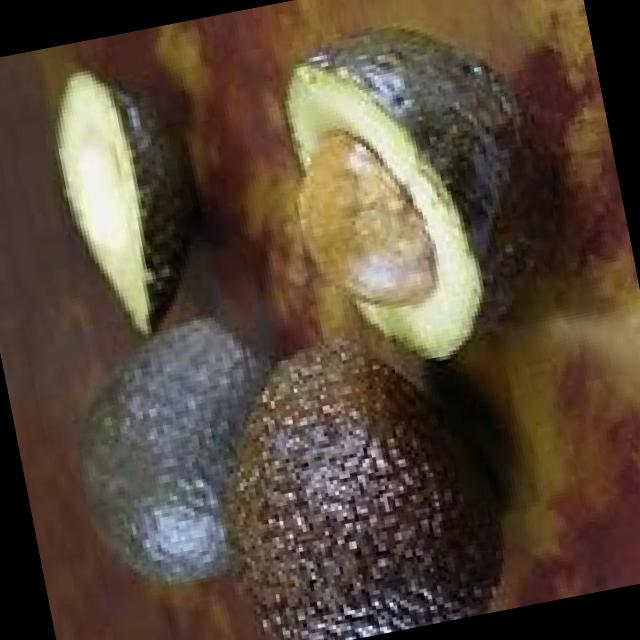avocado: (265, 0, 582, 382), (194, 307, 504, 640), (60, 304, 297, 597)
